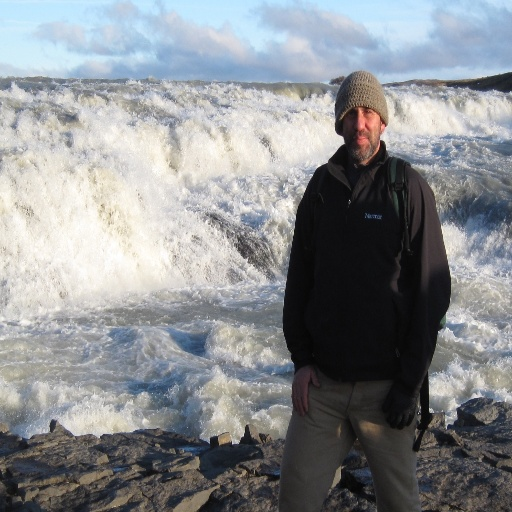hand: (289, 363, 324, 432), (380, 381, 420, 431)
